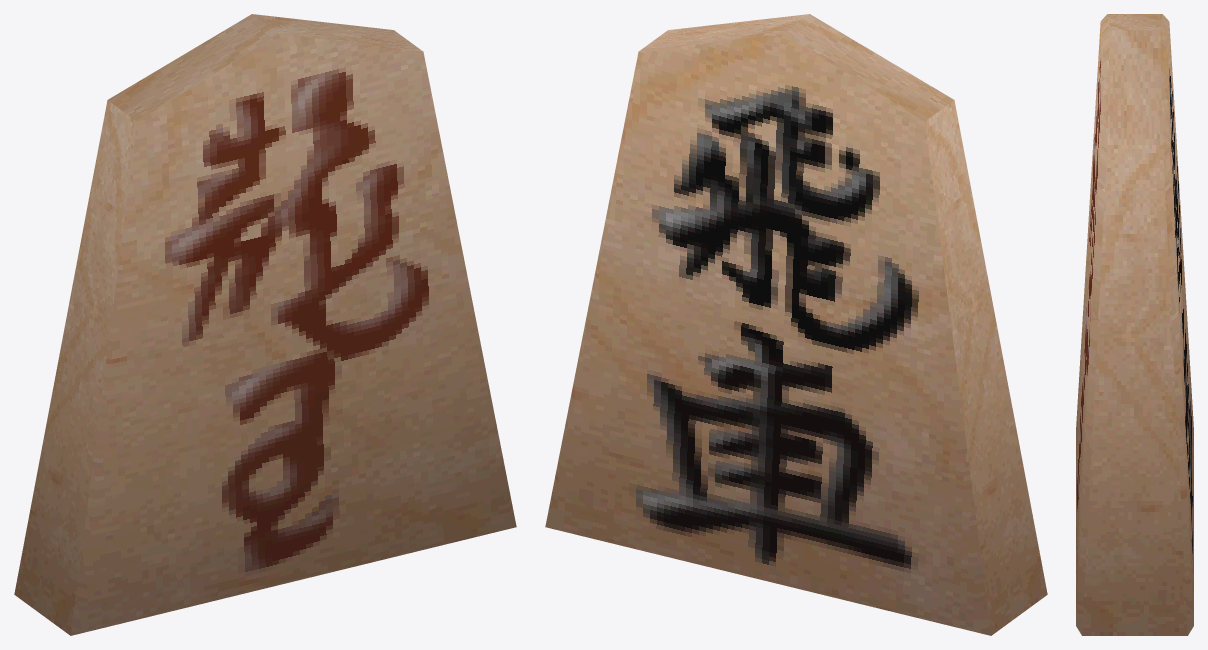
The model's file is ps2_save-icons_kakinokishogiiv-learningdata.glb.
The picture shows the model from 3 angles, left to right: view 1: azimuth 30°, elevation 25°; view 2: azimuth 150°, elevation 25°; view 3: azimuth 270°, elevation 25°; orthographic projection. The views are drawn at different scales.
Parts seen in each view (by area): view 1: lst.ico; view 2: lst.ico; view 3: lst.ico.
Boxes of the visible parts, x1,y1,x2,y2 form: lst.ico: (14,14,516,635); lst.ico: (545,14,1047,635); lst.ico: (1076,14,1193,635).
Size of the model in its own units: 4.11 by 4.73 by 1.
1 material, 1 textured.
